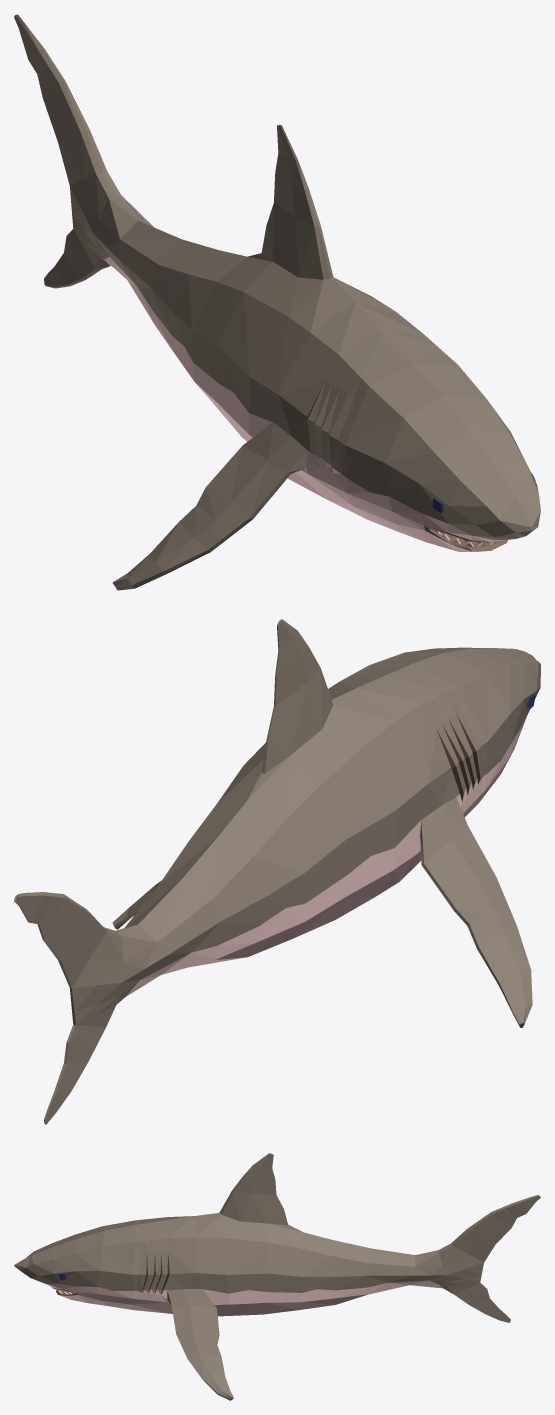
File: Shark.glb
3 views of the same model, one above another, from view 1: azimuth 30°, elevation 25°; view 2: azimuth 150°, elevation 25°; view 3: azimuth 270°, elevation 25° (orthographic). The views are drawn at different scales.
Parts seen in each view (by area): view 1: Shark_00; view 2: Shark_00; view 3: Shark_00.
Part boxes in pixels (<box>): Shark_00: <box>14,14,540,590</box>; Shark_00: <box>14,619,540,1124</box>; Shark_00: <box>14,1153,540,1400</box>.
Bounding box in the file's own units: 181 × 163 × 394.
1 material, 1 textured.
